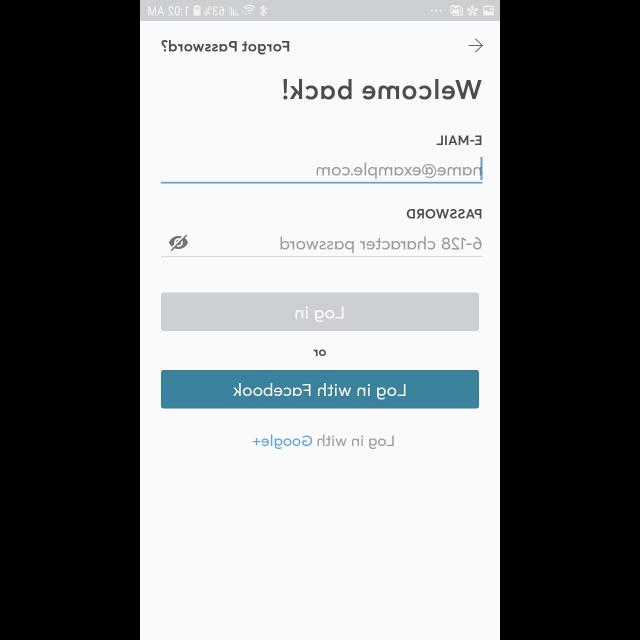icon: (168, 234, 188, 252), (468, 38, 484, 54)
input: (161, 156, 483, 184), (161, 235, 483, 258)
text: (283, 80, 482, 100), (280, 236, 482, 254), (317, 162, 481, 180), (252, 434, 394, 450), (161, 40, 289, 56), (406, 209, 482, 219), (435, 135, 481, 145), (314, 349, 326, 356)
textbutton: (161, 370, 479, 410), (162, 292, 478, 332)
uppertaskbar: (140, 1, 500, 22)
